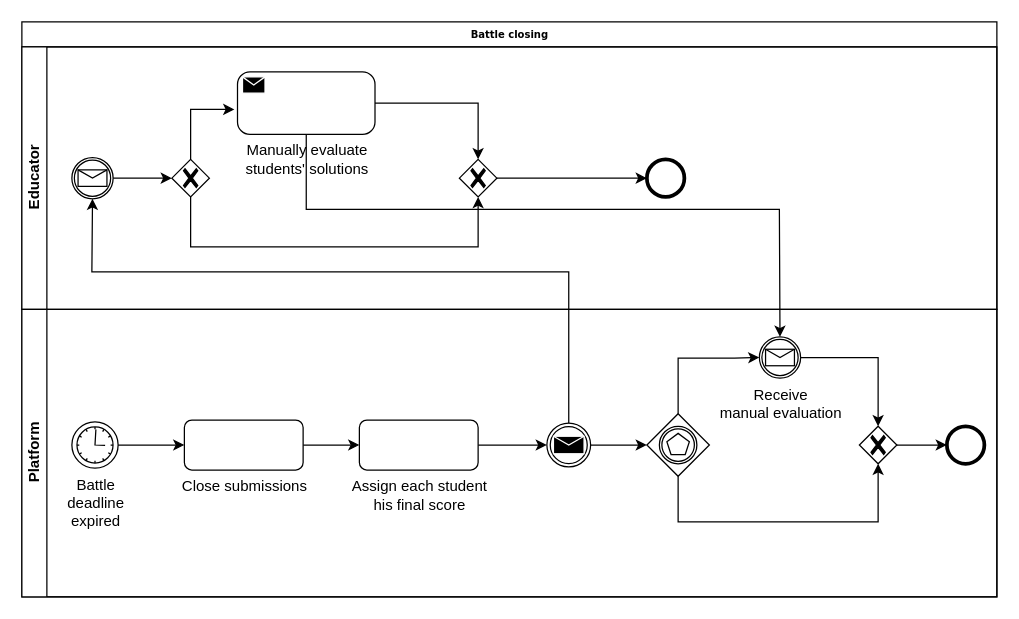
The diagram is 1019 pixels wide and 619 high, and some of its shapes have lost their labels. Here are the shapes that lost their labels. From the top down, the centre of each, then its label:
At [92,177]: "Receive battle closed notification".
At [568,444]: "Notify educator that the battle is now closed".
